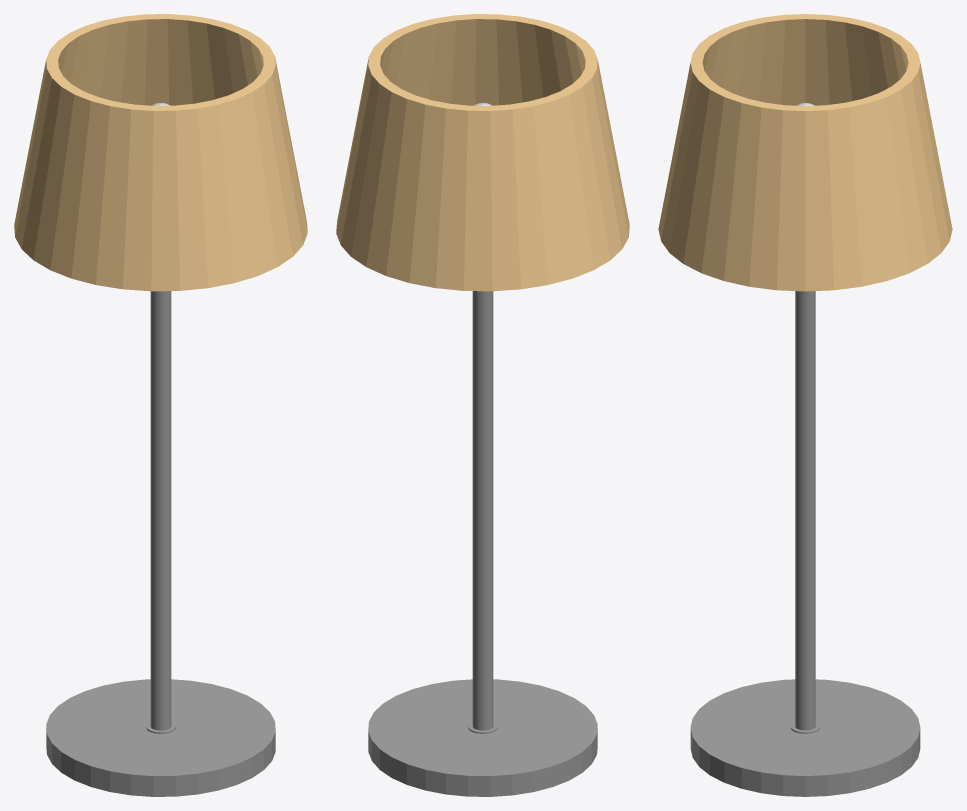
File: LampL.fbx
3 renders of one model, left to right at view 1: azimuth 30°, elevation 25°; view 2: azimuth 150°, elevation 25°; view 3: azimuth 270°, elevation 25°, orthographic.
Parts seen in each view (by area): view 1: Cylinder.002, Cylinder; view 2: Cylinder.002, Cylinder; view 3: Cylinder.002, Cylinder.
Boxes of the visible parts, x1,y1,x2,y2 form: Cylinder.002: (14,14,307,291); Cylinder: (46,291,275,796); Cylinder.002: (336,14,629,291); Cylinder: (368,291,597,796); Cylinder.002: (658,14,952,291); Cylinder: (690,291,920,796).
Size of the model in its own units: 256 by 658 by 256.
